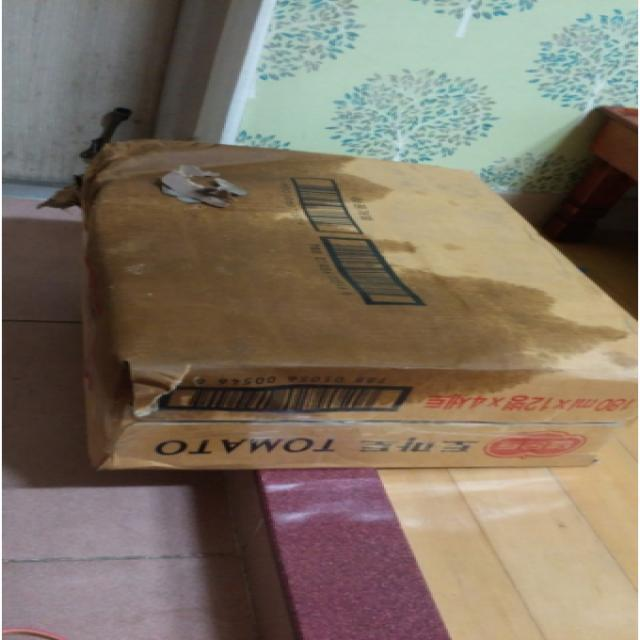wet: (84, 140, 625, 466)
